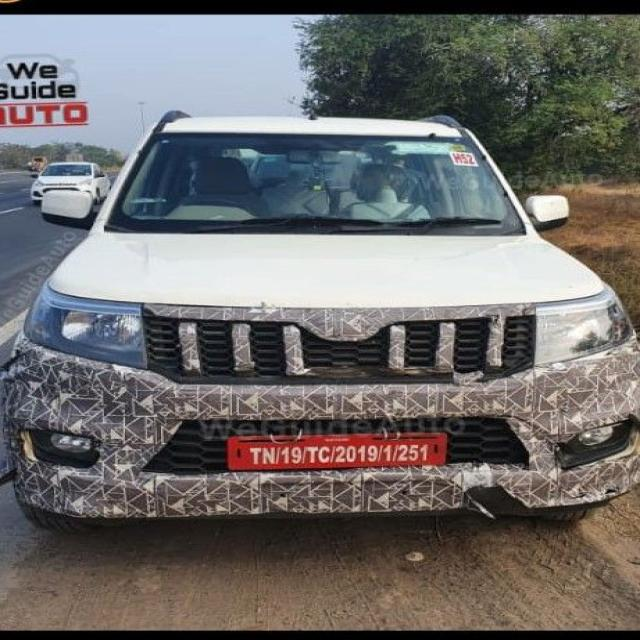light_vehicle: (25, 106, 640, 520), (36, 158, 103, 199)
